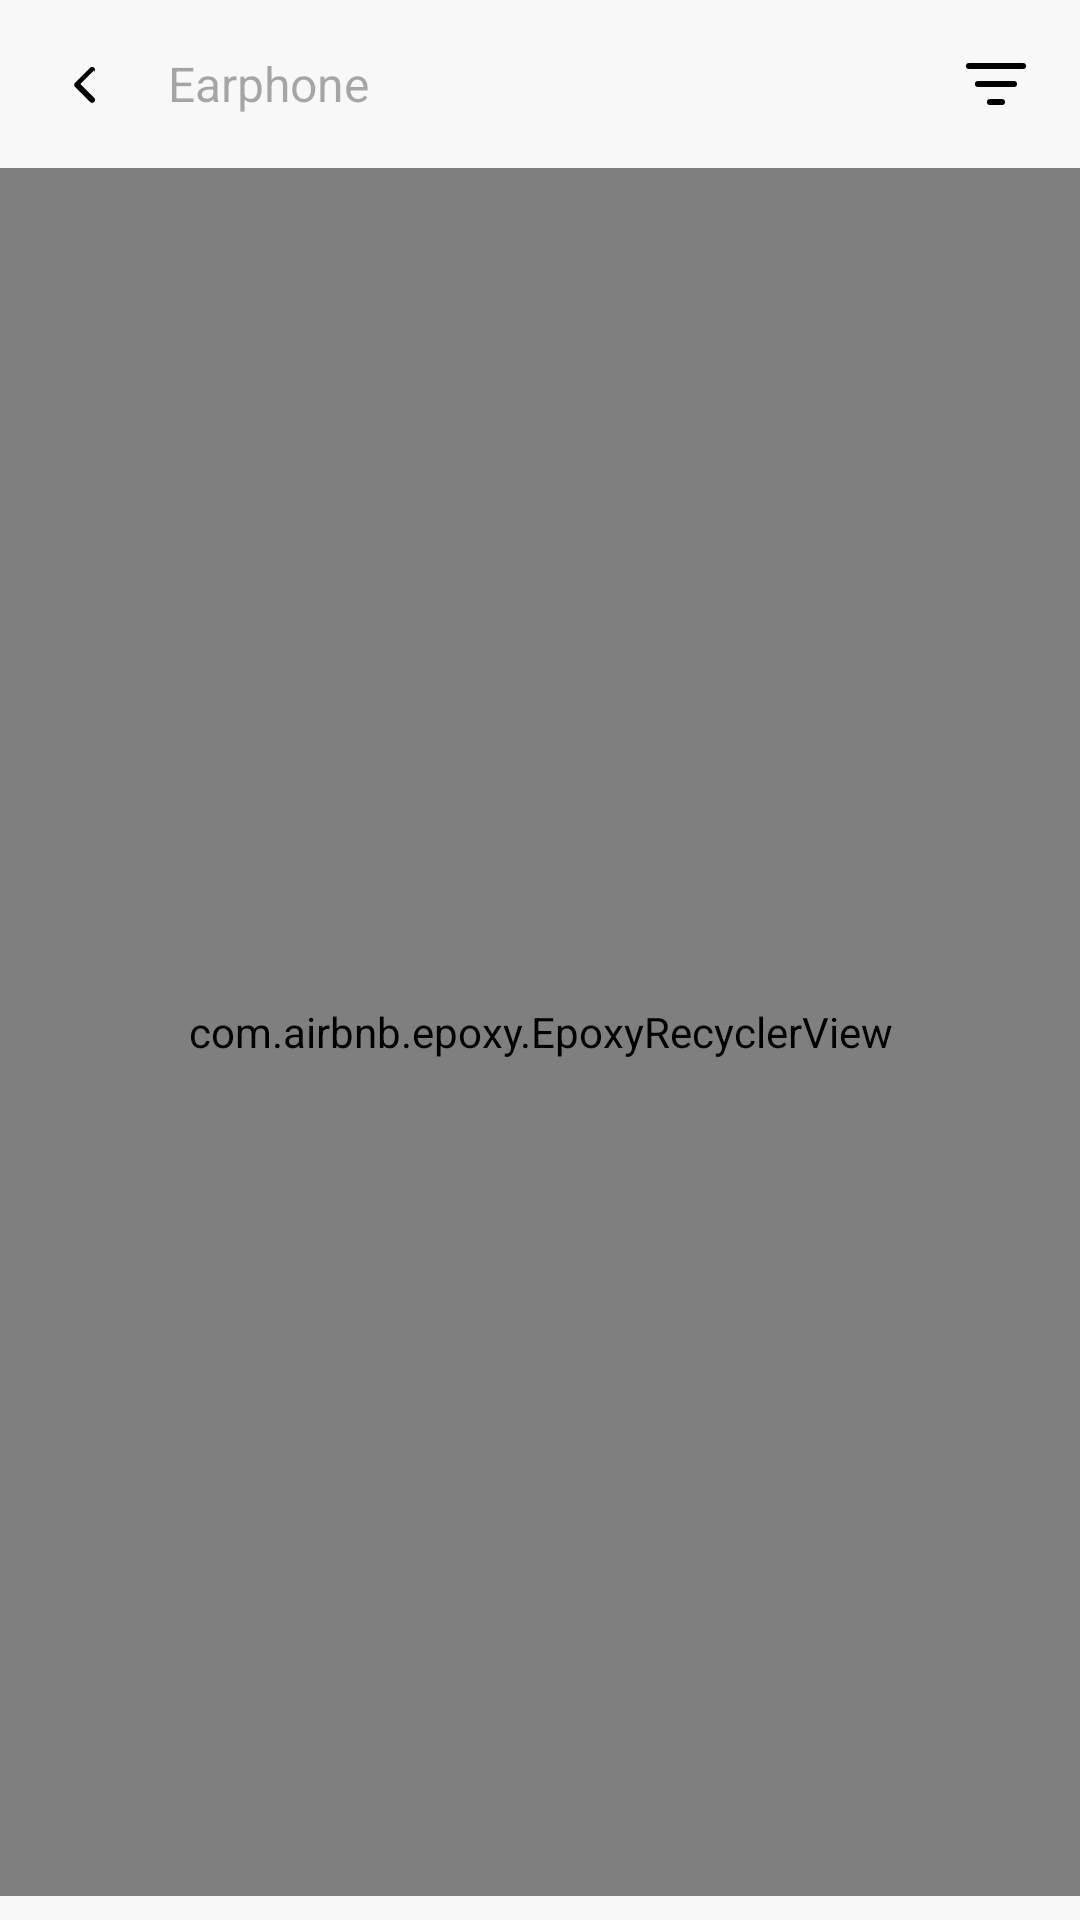

Icon click points for this 1080x1920 phone screenshot, format (x=x, y=y):
Back: (x=84, y=85)
Filter: (x=996, y=84)
